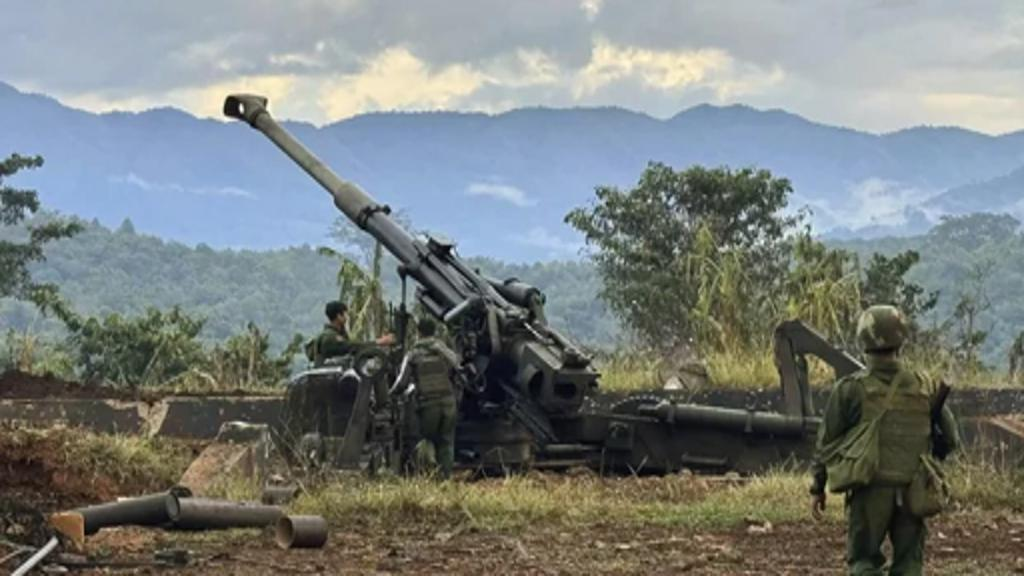ART: (218, 78, 868, 478)
